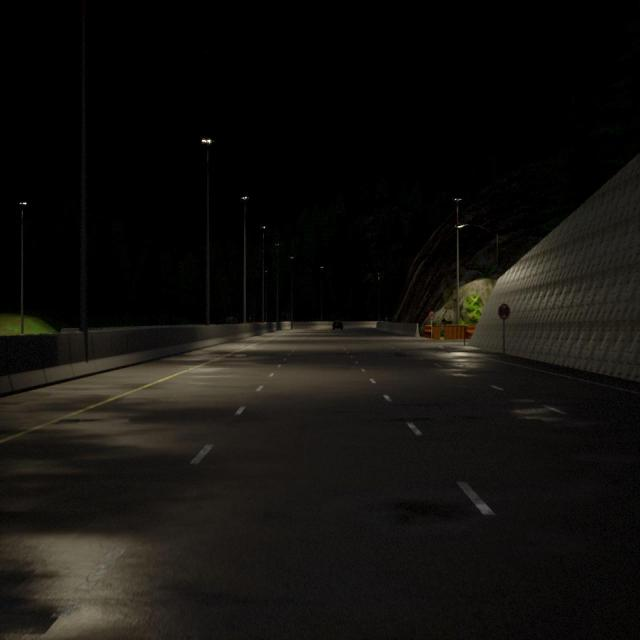Traffic_Signs: (498, 303, 510, 319), (428, 311, 434, 320)
Vehicle: (333, 320, 343, 330)
